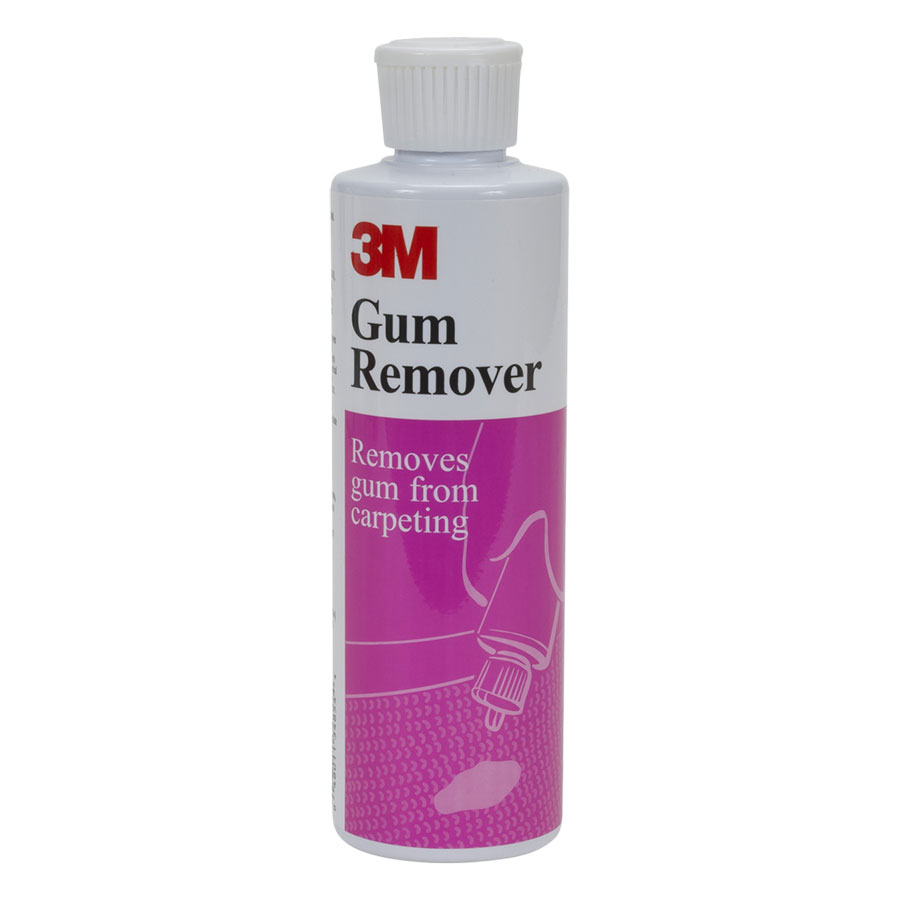3M: (345, 211, 449, 289)
